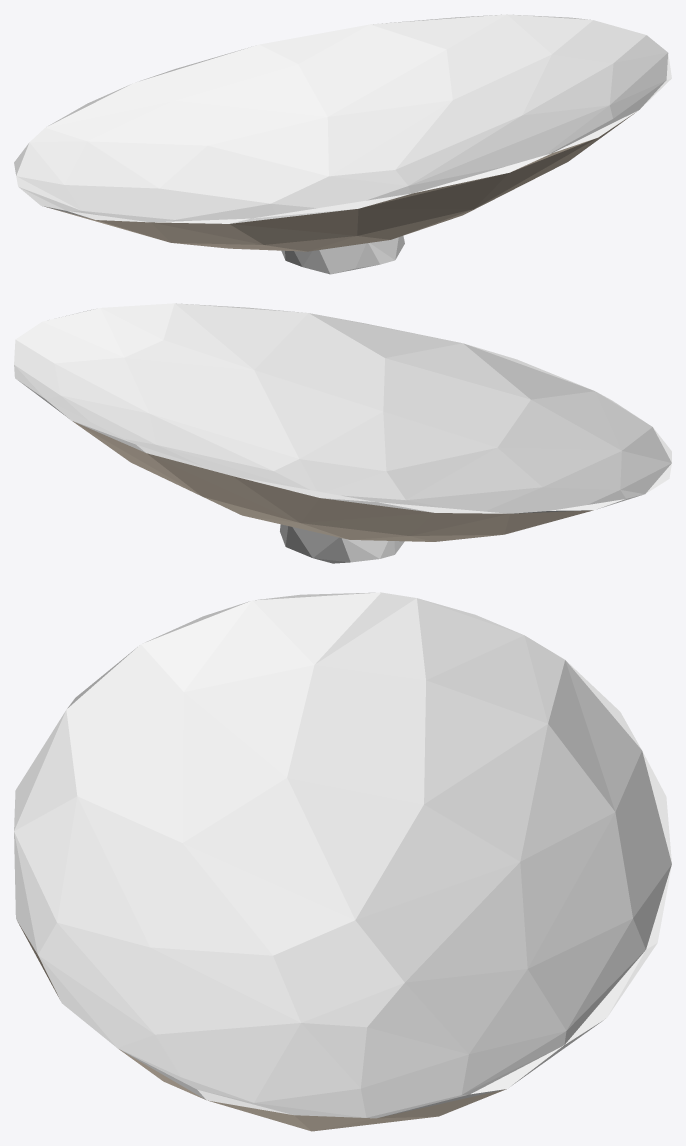
The model's file is FruitBowlWhite.fbx.
The picture shows the model from 3 angles, top to bottom: view 1: azimuth 30°, elevation 25°; view 2: azimuth 150°, elevation 25°; view 3: azimuth 270°, elevation 25°; orthographic projection. The views are drawn at different scales.
Parts seen in each view (by area): view 1: FruitBowlLowPolyWhite; view 2: FruitBowlLowPolyWhite; view 3: FruitBowlLowPolyWhite.
Part boxes in pixels (bbox=[...]): FruitBowlLowPolyWhite: bbox=[14, 14, 671, 274]; FruitBowlLowPolyWhite: bbox=[14, 303, 671, 563]; FruitBowlLowPolyWhite: bbox=[14, 592, 671, 1131].
Size of the model in its own units: 29.7 by 6.05 by 15.7.
